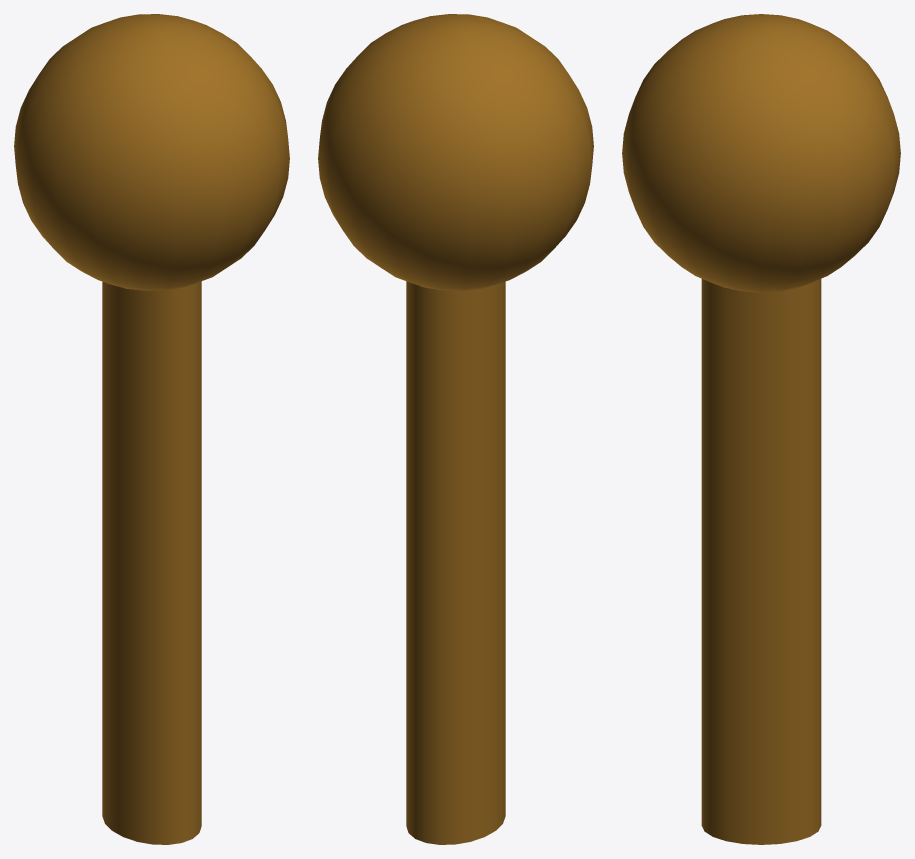
File: Bulb04.fbx
3 views of the same model, side by side, from view 1: azimuth 30°, elevation 25°; view 2: azimuth 150°, elevation 25°; view 3: azimuth 270°, elevation 25° (orthographic).
Parts seen in each view (by area): view 1: polySurface56; view 2: polySurface56; view 3: polySurface56.
Part boxes in pixels (x1,y1,x2,y2): polySurface56: (14,14,289,844); polySurface56: (318,14,593,844); polySurface56: (622,14,900,844).
Size of the model in its own units: 0.1875 by 0.5925 by 0.1875.
